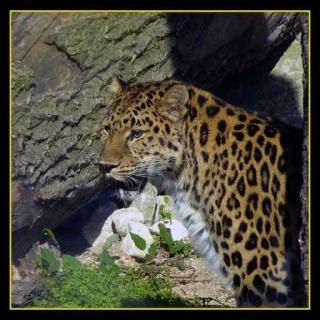Leopard: (70, 60, 320, 298)
